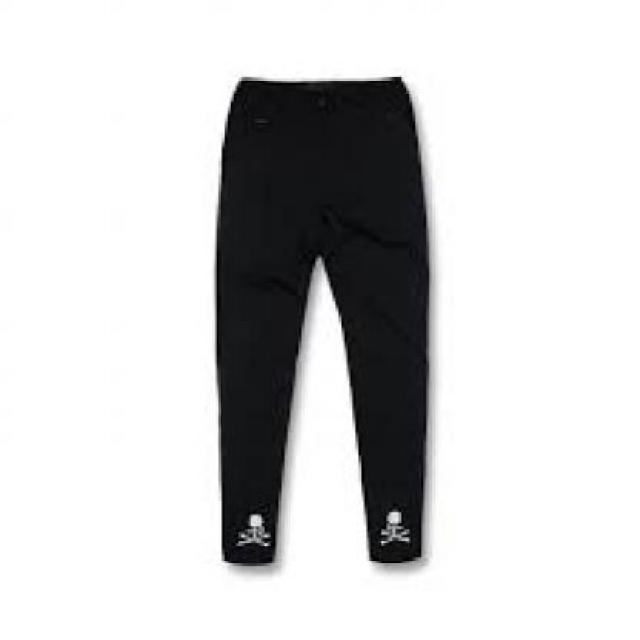pants: (209, 74, 431, 568)
